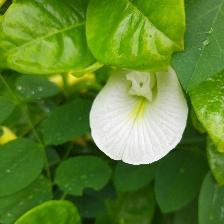shankupushpam: (88, 62, 195, 167)
